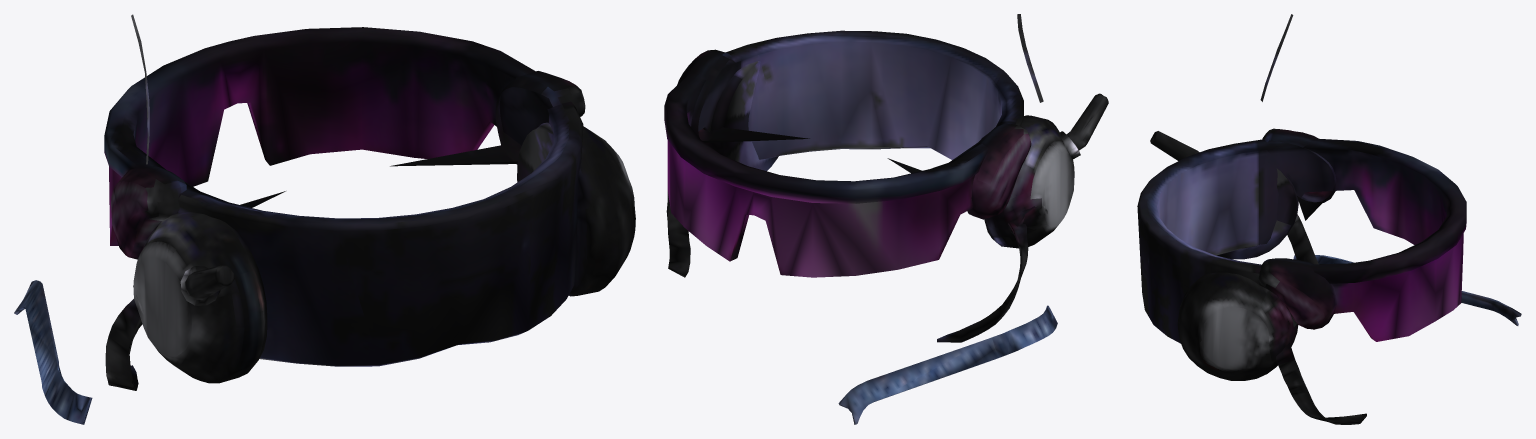
Rendered from Headgear.glb.
3 renders of one model, left to right at view 1: azimuth 30°, elevation 25°; view 2: azimuth 150°, elevation 25°; view 3: azimuth 270°, elevation 25°, orthographic. The views are drawn at different scales.
Parts seen in each view (by area): view 1: Headgear; view 2: Headgear; view 3: Headgear.
Part boxes in pixels (x1,y1,x2,y2): Headgear: [14, 14, 635, 424]; Headgear: [664, 14, 1108, 424]; Headgear: [1137, 14, 1521, 424].
Bounding box in the file's own units: 1.99 × 1.62 × 1.91.
1 material, 1 textured.
